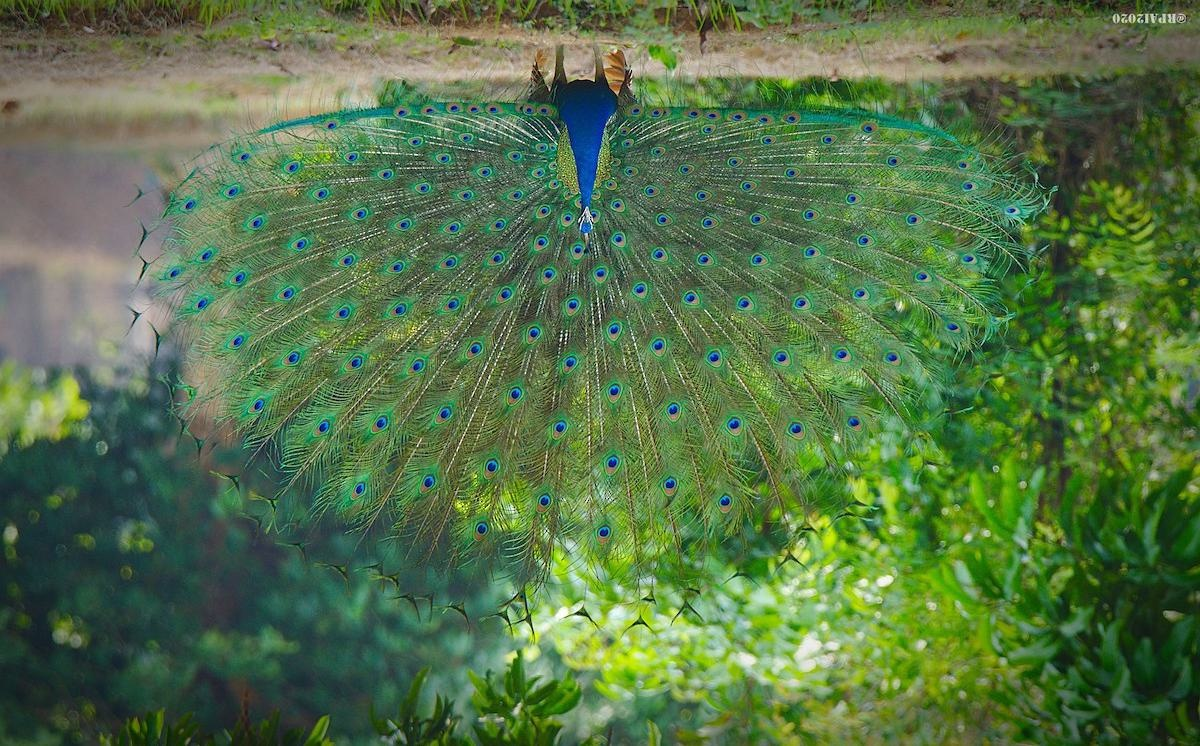peacock: (127, 41, 1050, 590)
